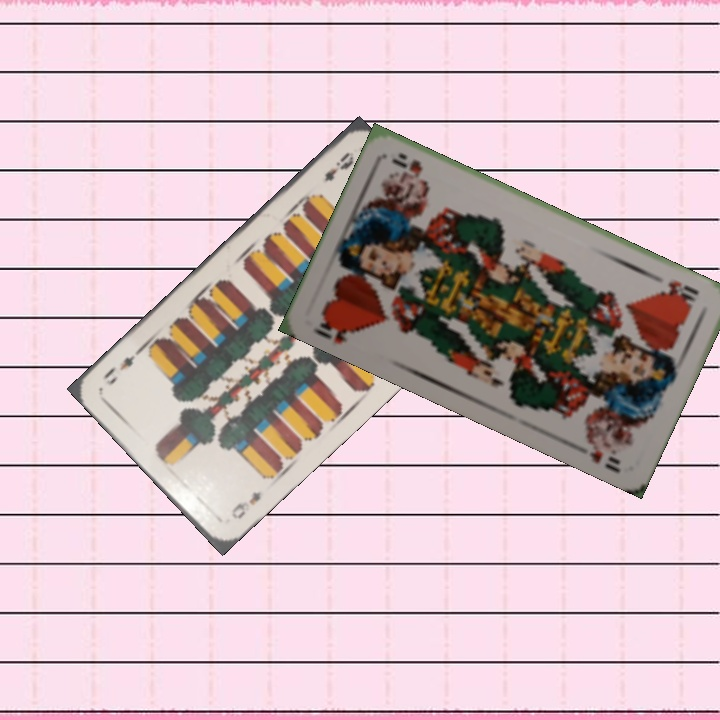E9: (319, 147, 357, 184), (227, 487, 264, 522)
HO: (315, 311, 362, 347), (657, 276, 702, 308)
